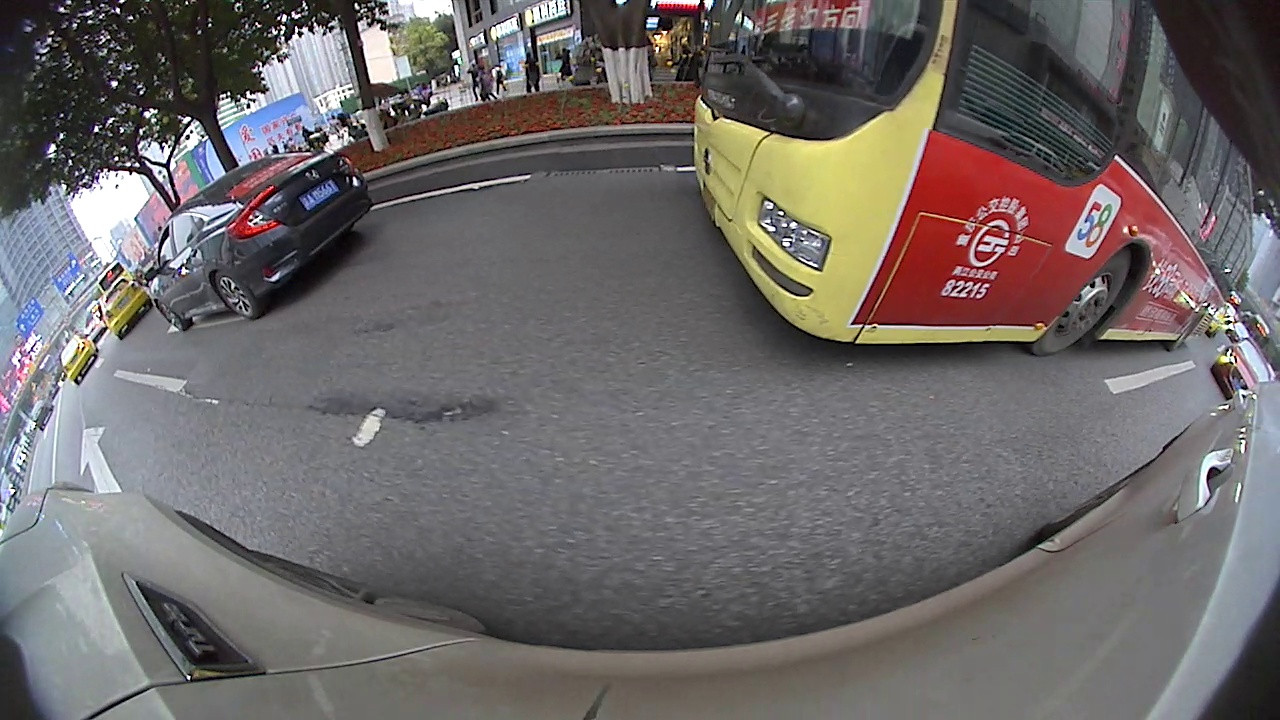car: (455, 52, 671, 128), (163, 111, 294, 220), (737, 81, 852, 138), (881, 130, 975, 186), (16, 288, 82, 363), (1189, 365, 1244, 439)
front: (480, 98, 514, 129), (182, 237, 213, 263), (767, 104, 789, 126)
rear: (617, 92, 648, 120)
rider: (108, 178, 217, 282)
